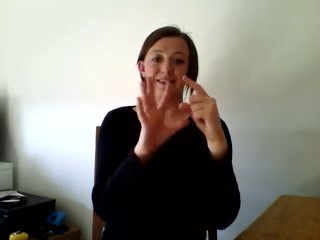E: (130, 71, 225, 149)
